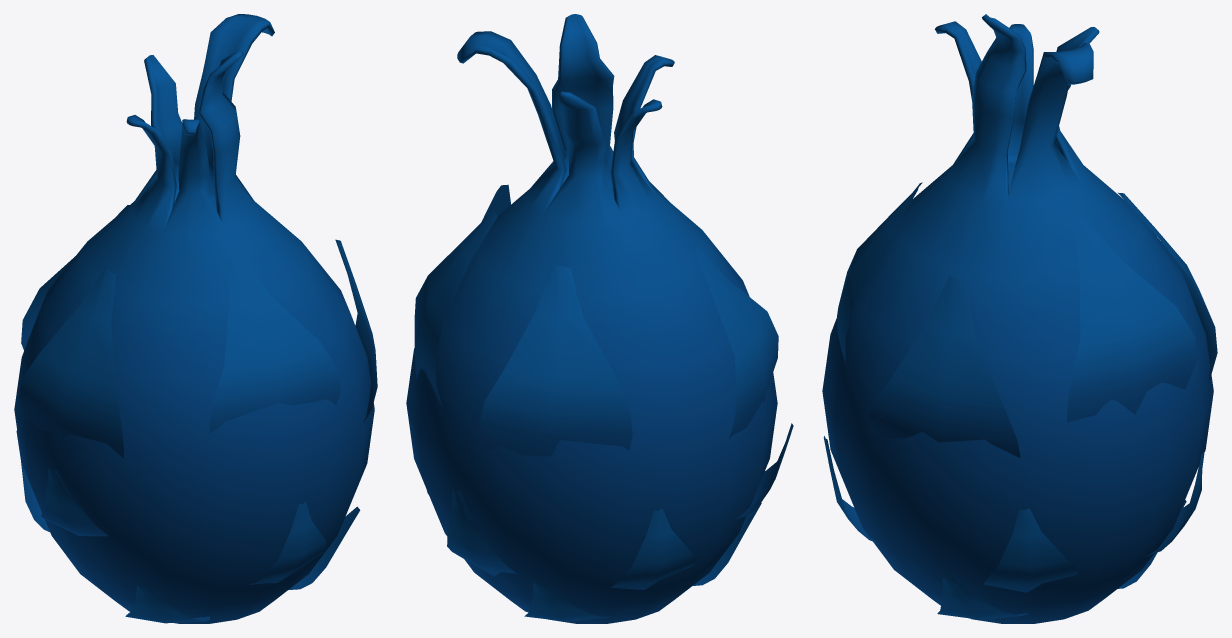
The model's file is Pitaya.fbx.
3 views of the same model, side by side, from view 1: azimuth 30°, elevation 25°; view 2: azimuth 150°, elevation 25°; view 3: azimuth 270°, elevation 25° (orthographic). The views are drawn at different scales.
Parts seen in each view (by area): view 1: Pitaya; view 2: Pitaya; view 3: Pitaya.
Boxes of the visible parts, x1=… form: Pitaya: x1=14, y1=14, x2=377, y2=623; Pitaya: x1=406, y1=14, x2=793, y2=623; Pitaya: x1=822, y1=14, x2=1217, y2=623.
Bounding box in the file's own units: 109 × 175 × 104.
